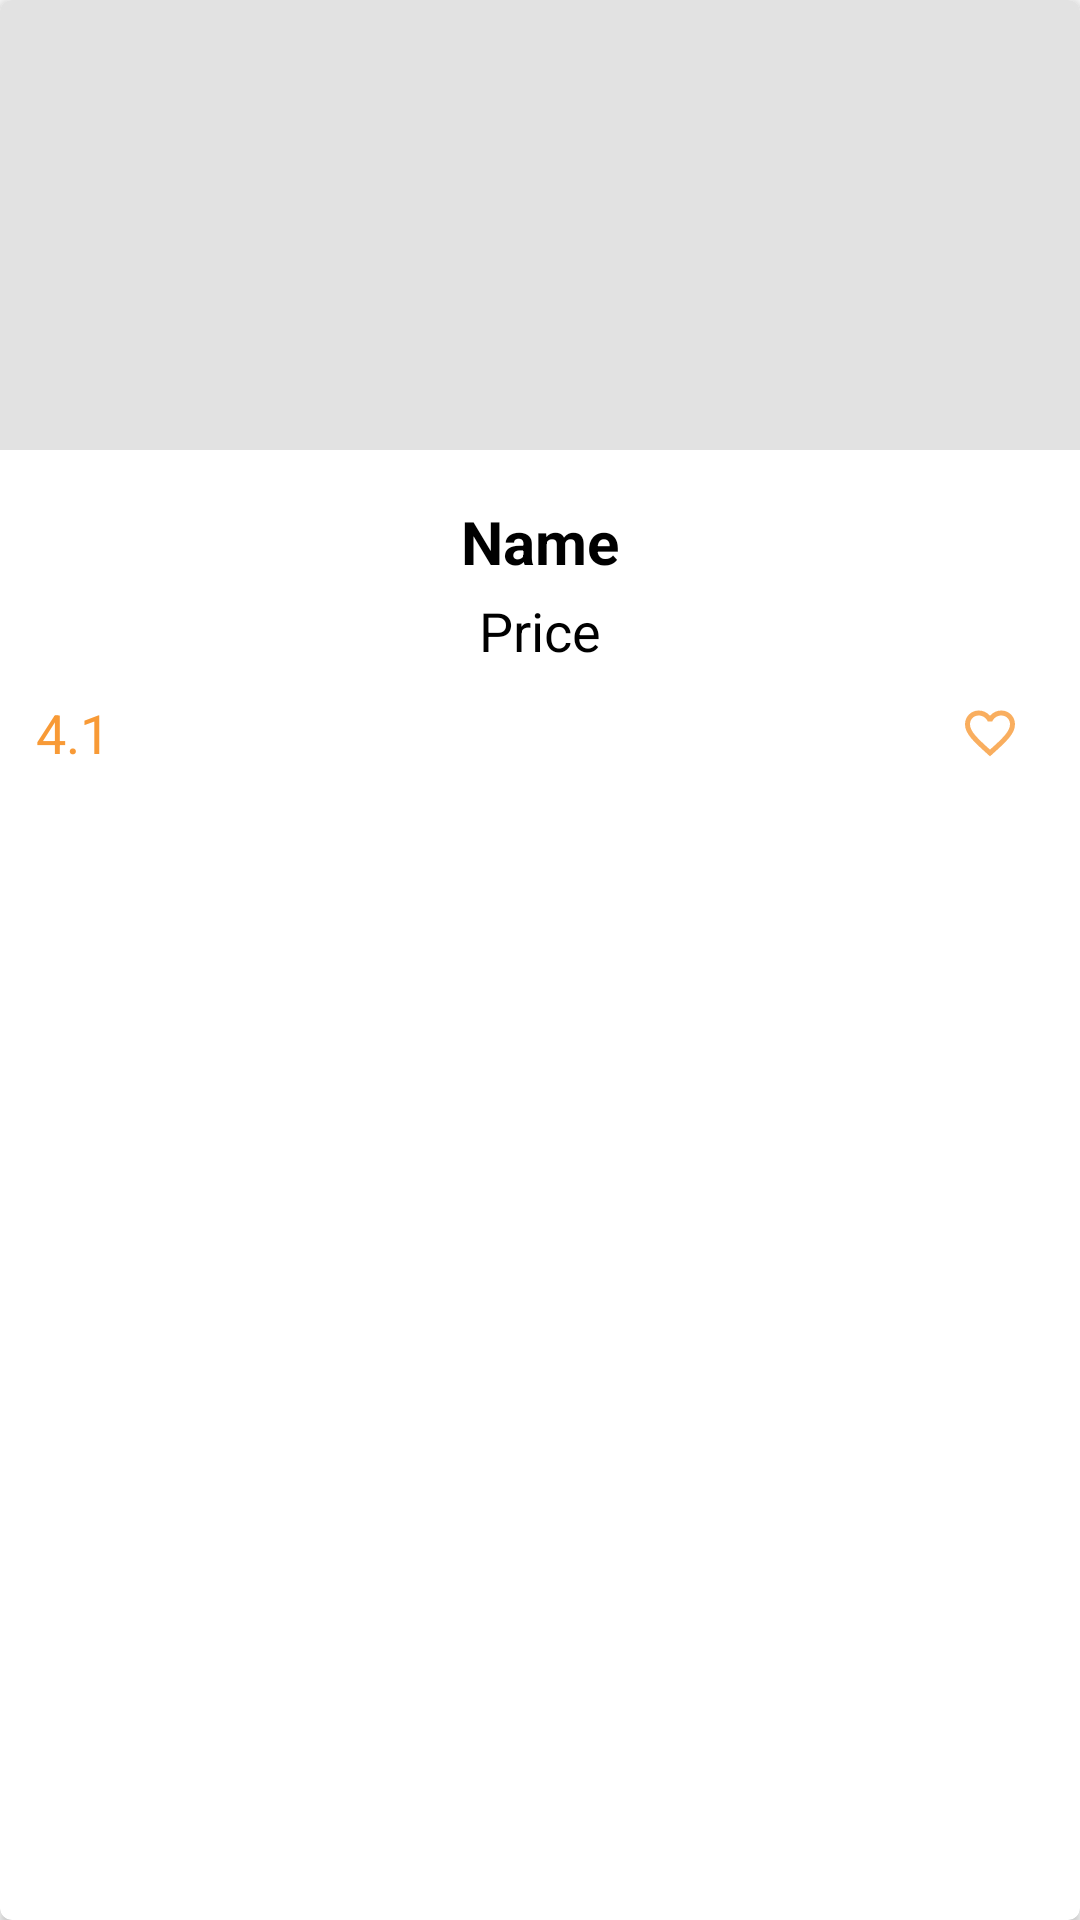

Named icons in this screenshot (1080 x 1920) and their bounding boxes, (x1, y1, x2, y2):
favourite: (965, 710, 1015, 756)
